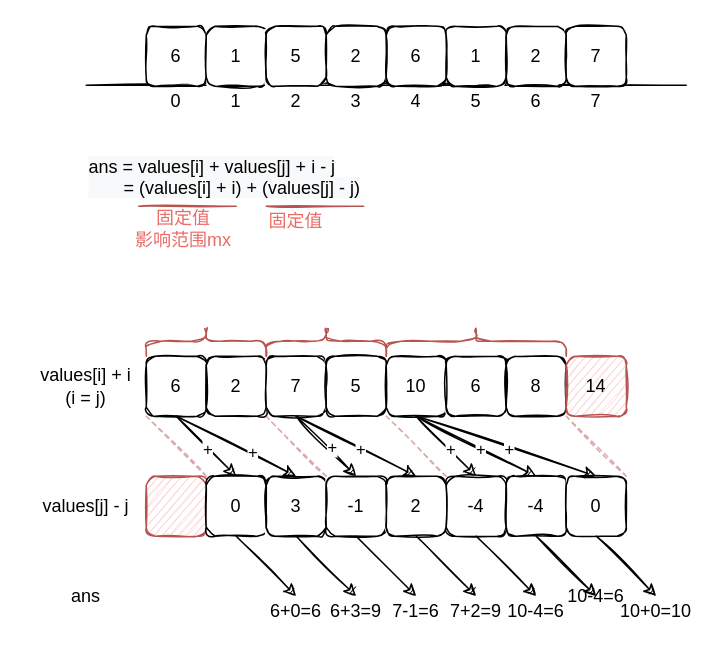
This 717x653 diagram has some shape labels left out. Each missing label, with the box of its shape:
mx=10: (385, 325, 566, 356)
mx=6: (145, 325, 266, 356)
mx=7: (265, 325, 386, 356)
